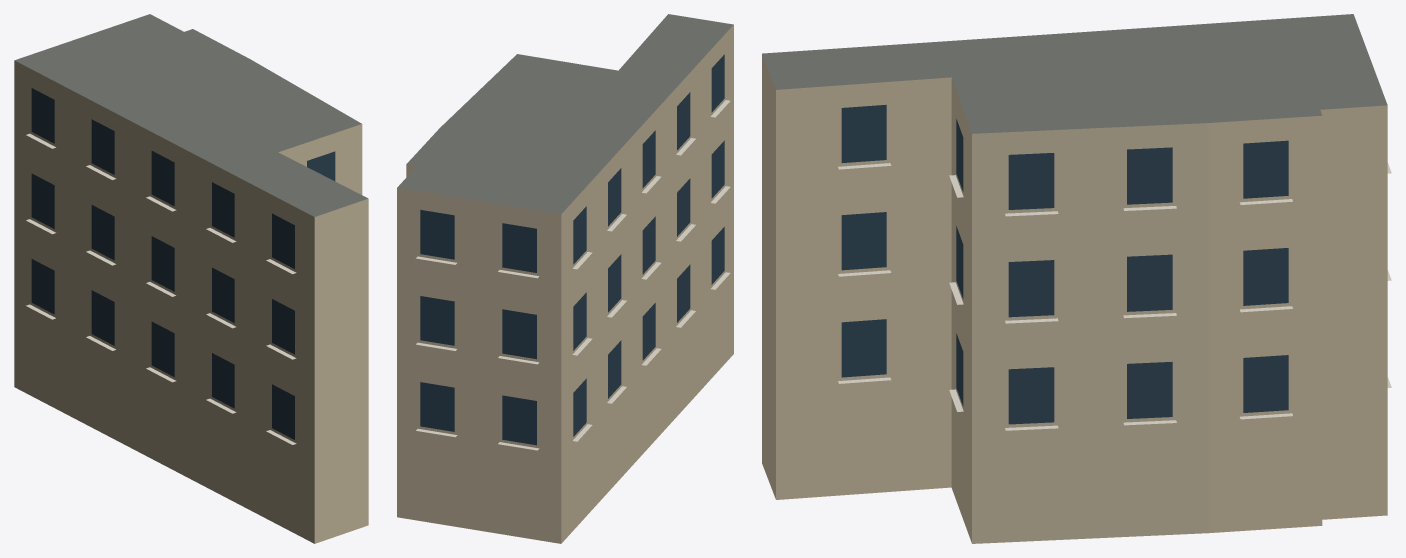
3 views of the same model, side by side, from view 1: azimuth 30°, elevation 25°; view 2: azimuth 150°, elevation 25°; view 3: azimuth 270°, elevation 25° (orthographic). The views are drawn at different scales.
Parts seen in each view (by area): view 1: Footprint 0, Inferred window bays, Window sills; view 2: Footprint 0, Inferred window bays, Window sills; view 3: Footprint 0, Inferred window bays, Window sills.
Part boxes in pixels (x1,y1,x2,y2): Footprint 0: (14, 14, 368, 543); Inferred window bays: (31, 88, 335, 439); Window sills: (26, 133, 296, 444); Footprint 0: (397, 14, 733, 543); Inferred window bays: (420, 54, 724, 445); Window sills: (416, 100, 730, 450); Footprint 0: (762, 14, 1387, 543); Inferred window bays: (841, 104, 1288, 424); Window sills: (838, 163, 1391, 430).
Bounding box in the file's own units: 7.91 × 12.26 × 17.06.
